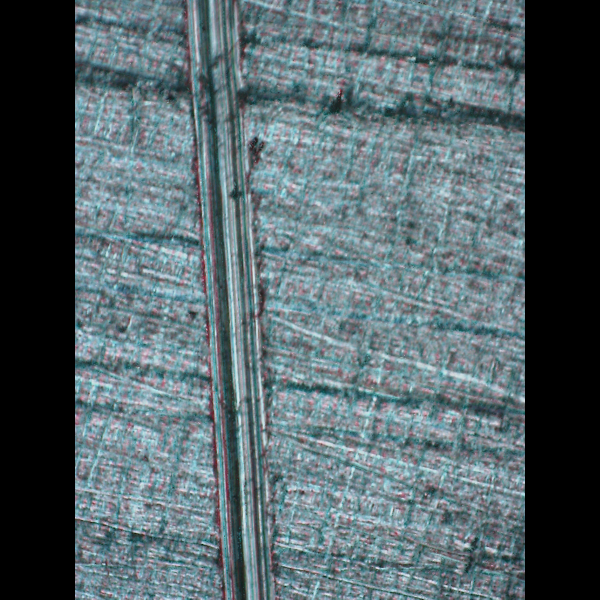d: (175, 1, 284, 600)
